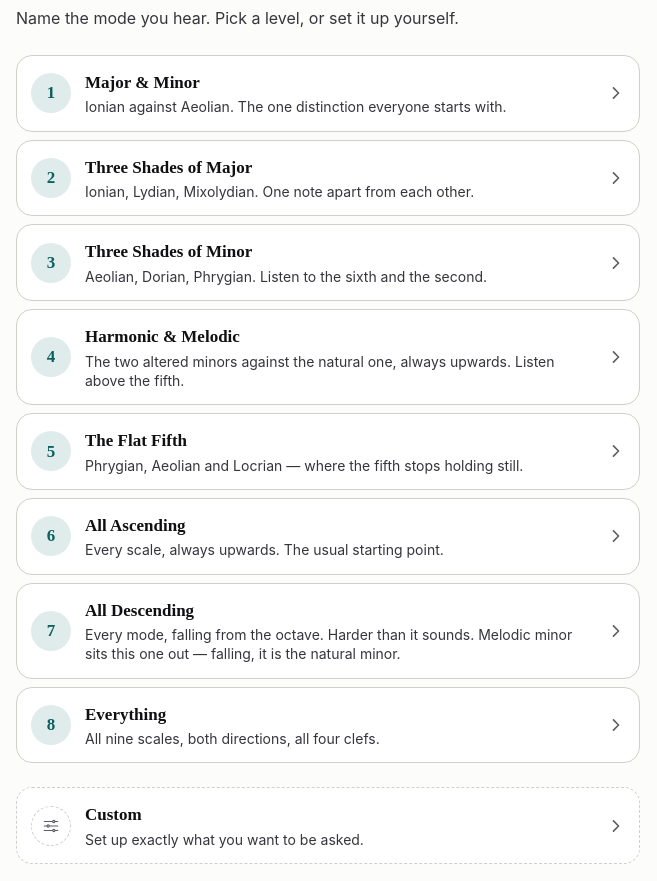
it: Scale Hearing › opens the full settings screen from Custom
The image size is (657, 881).
Click the text "Custom" at (113, 815), box [85,805,142,824]
(page scrolled)
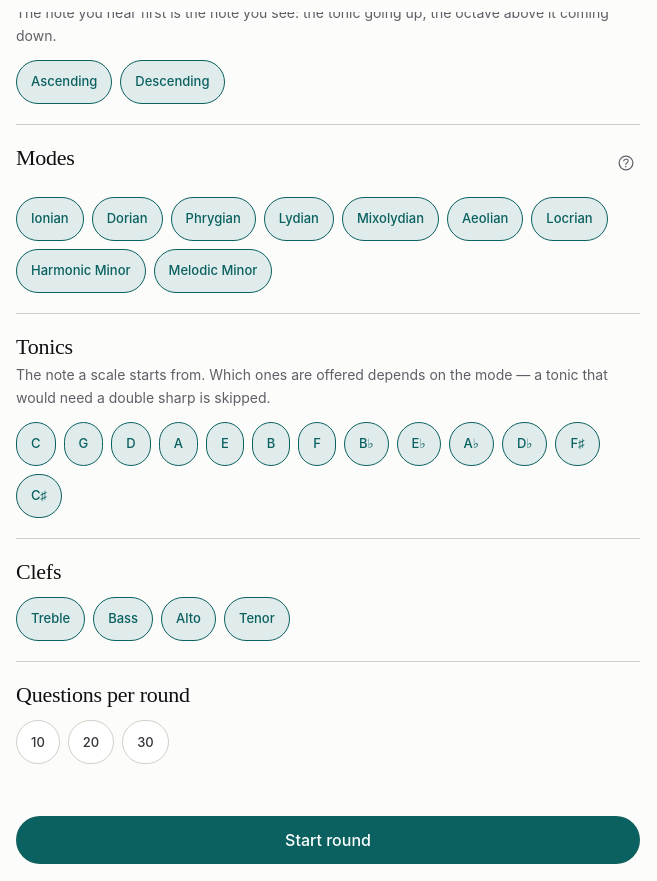
Expected: the heading "Modes" is shown, [16,145,75,171]
Expected: the heading "Tonics" is shown, [16,334,73,360]
Expected: the button "Start round" is shown, [16,816,640,864]
